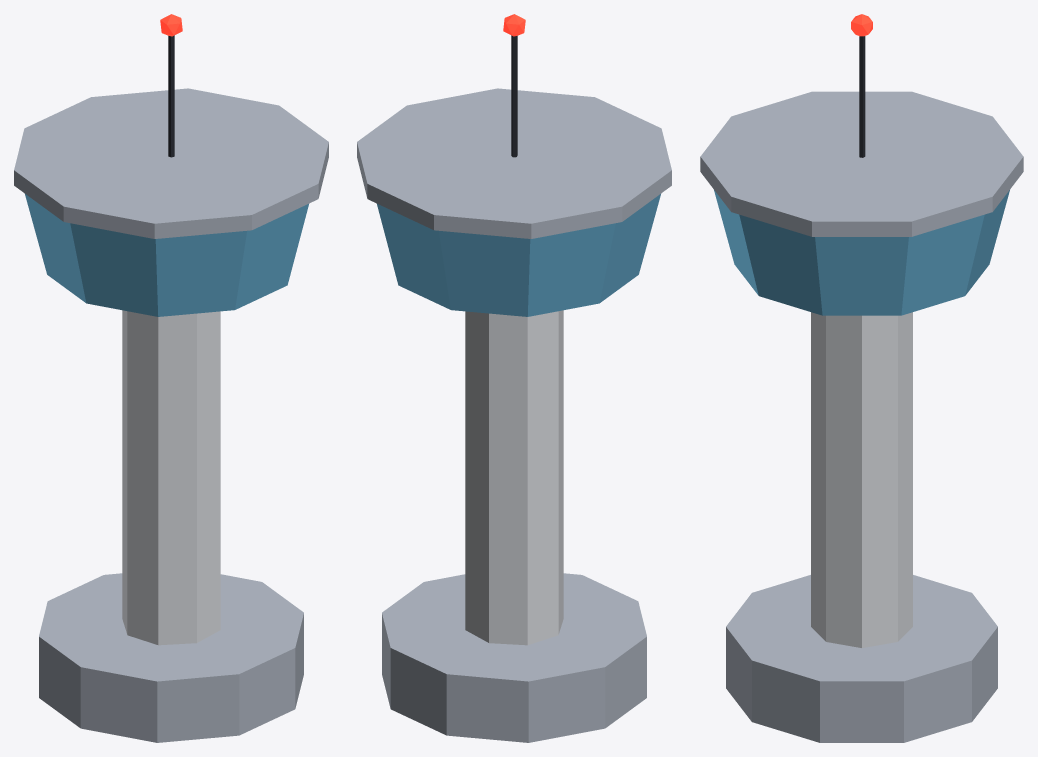
File: lunar-command-tower.glb
3 renders of one model, left to right at view 1: azimuth 30°, elevation 25°; view 2: azimuth 150°, elevation 25°; view 3: azimuth 270°, elevation 25°, orthographic.
Parts seen in each view (by area): view 1: command_tower; view 2: command_tower; view 3: command_tower.
Boxes of the visible parts, x1,y1,x2,y2 form: command_tower: (14,14,328,742); command_tower: (357,14,671,742); command_tower: (700,14,1023,742).
Size of the model in its own units: 3.61 by 8.75 by 3.8.
